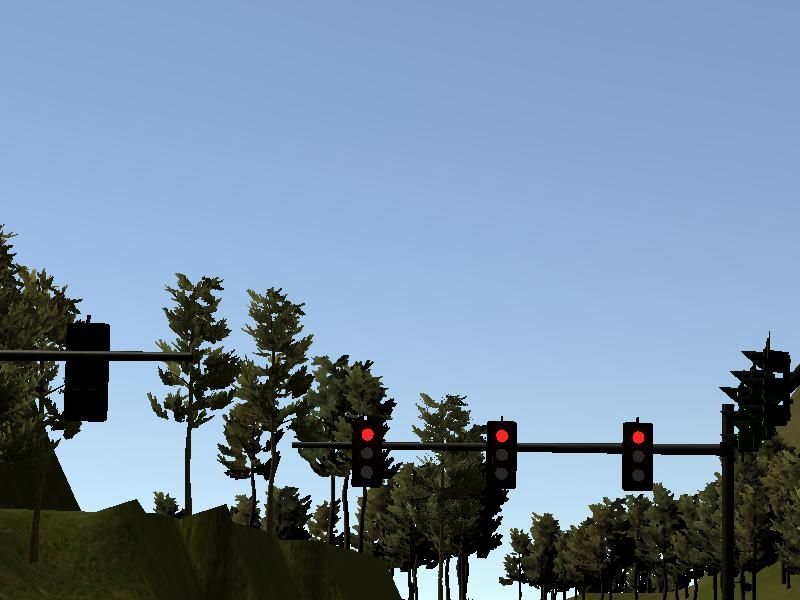red: (482, 415, 519, 489), (349, 415, 384, 490), (621, 417, 653, 492)
